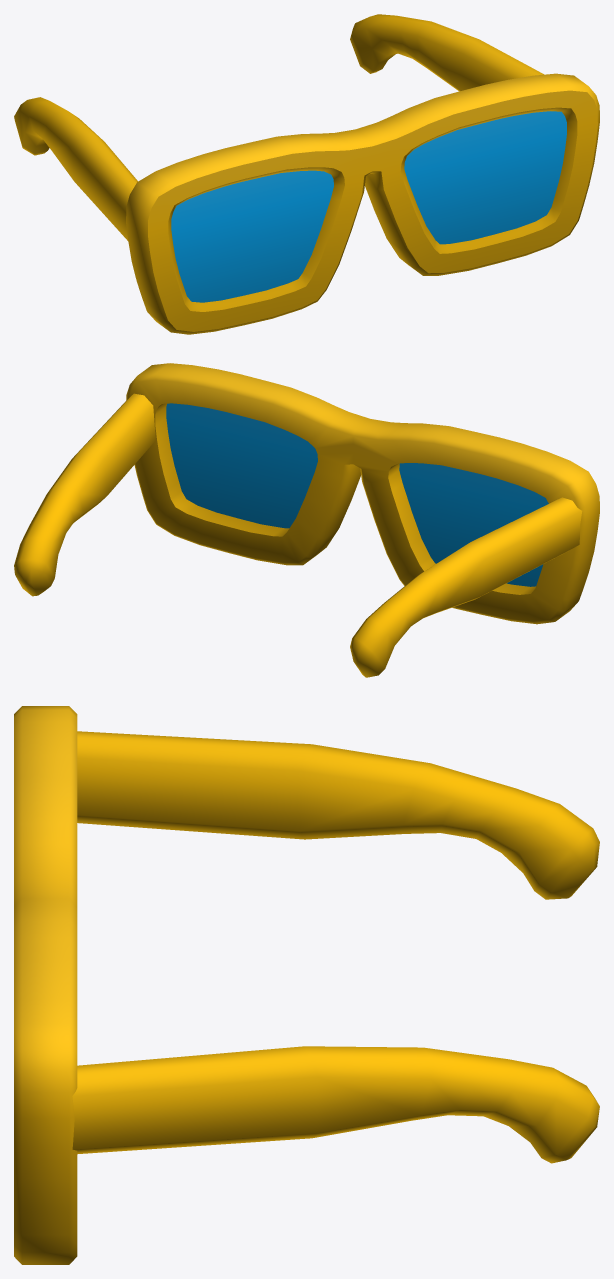
The model's file is Collectable_Sunglass_01.fbx.
3 views of the same model, one above another, from view 1: azimuth 30°, elevation 25°; view 2: azimuth 150°, elevation 25°; view 3: azimuth 270°, elevation 25° (orthographic). The views are drawn at different scales.
Visible parts, largest first — view 1: Collectable_Sunglass_01; view 2: Collectable_Sunglass_01; view 3: Collectable_Sunglass_01.
Part boxes in pixels (x1=…): Collectable_Sunglass_01: x1=14, y1=14, x2=599, y2=334; Collectable_Sunglass_01: x1=14, y1=363, x2=599, y2=677; Collectable_Sunglass_01: x1=14, y1=706, x2=599, y2=1264.
Size of the model in its own units: 97.48 by 34.02 by 67.09.
Materials: 1 (1 with a texture image).
